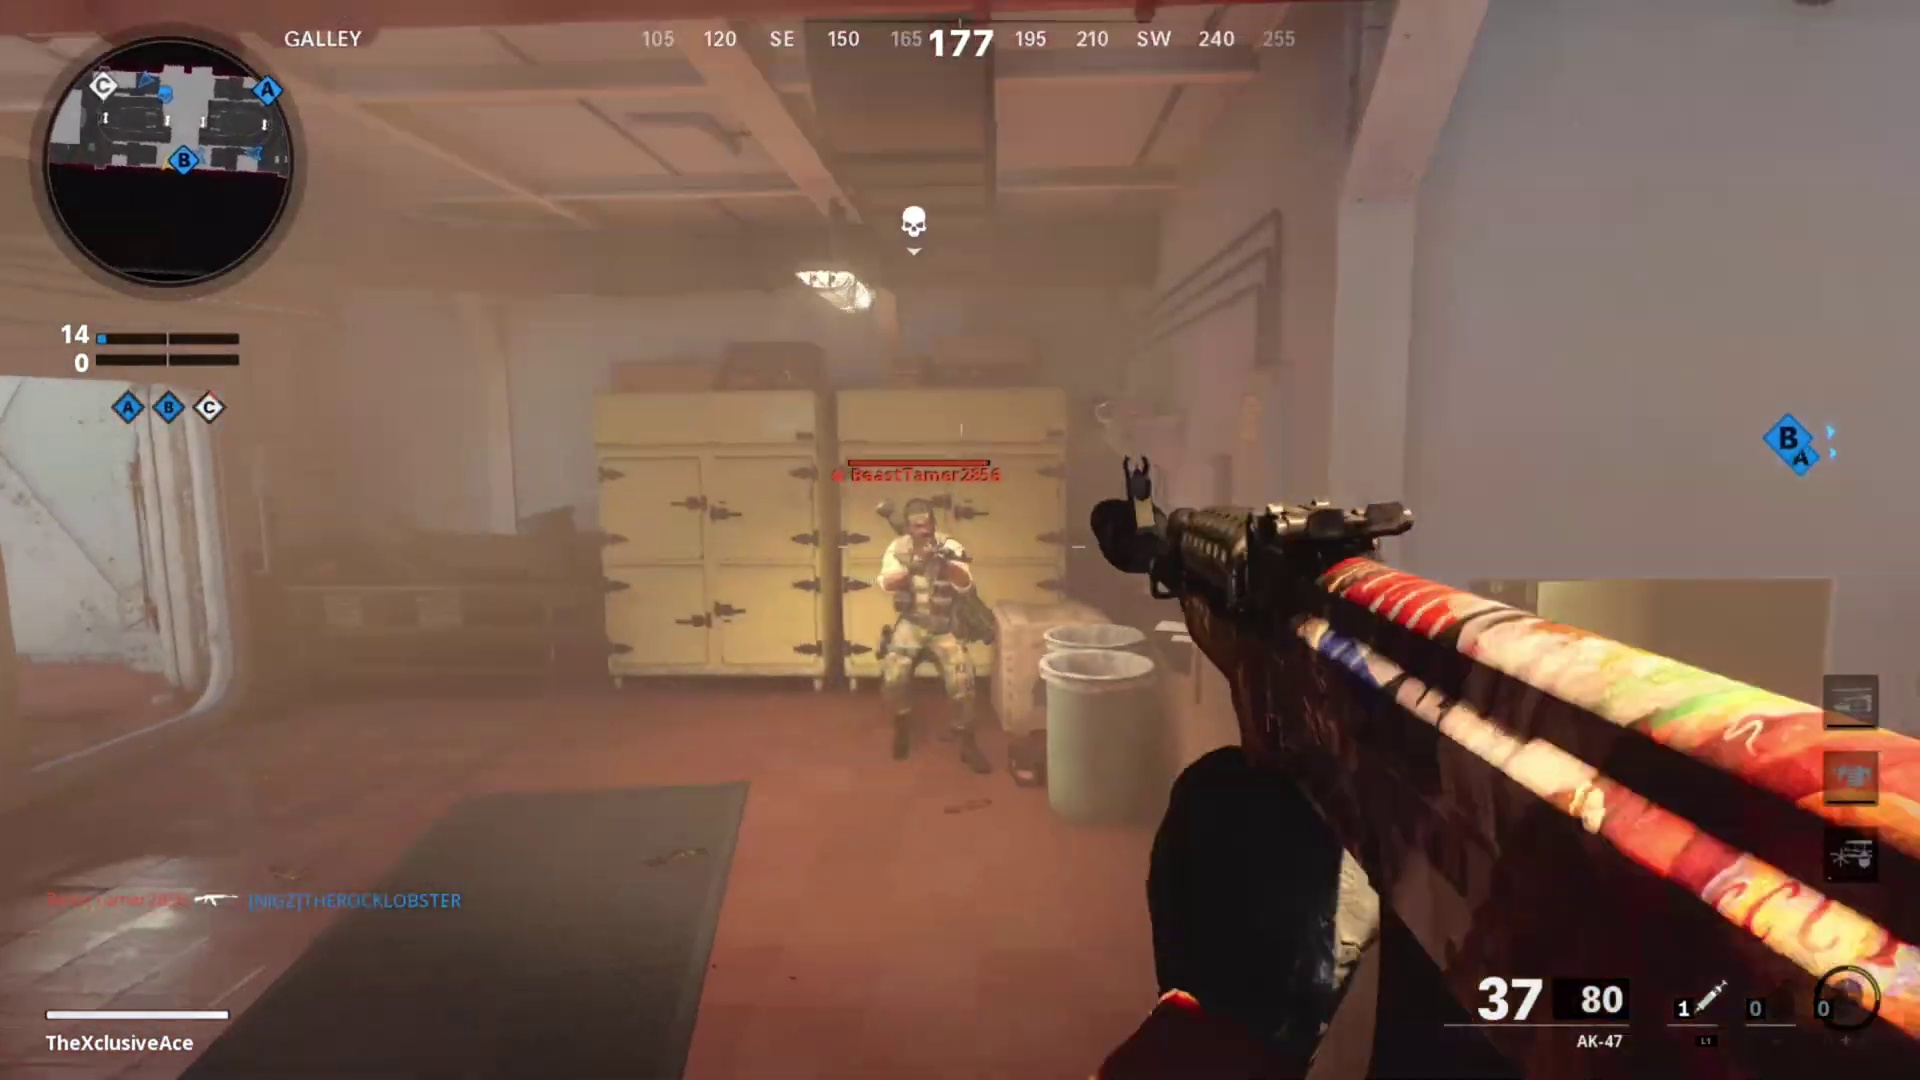head: (896, 498, 943, 561)
person: (875, 495, 997, 777)
